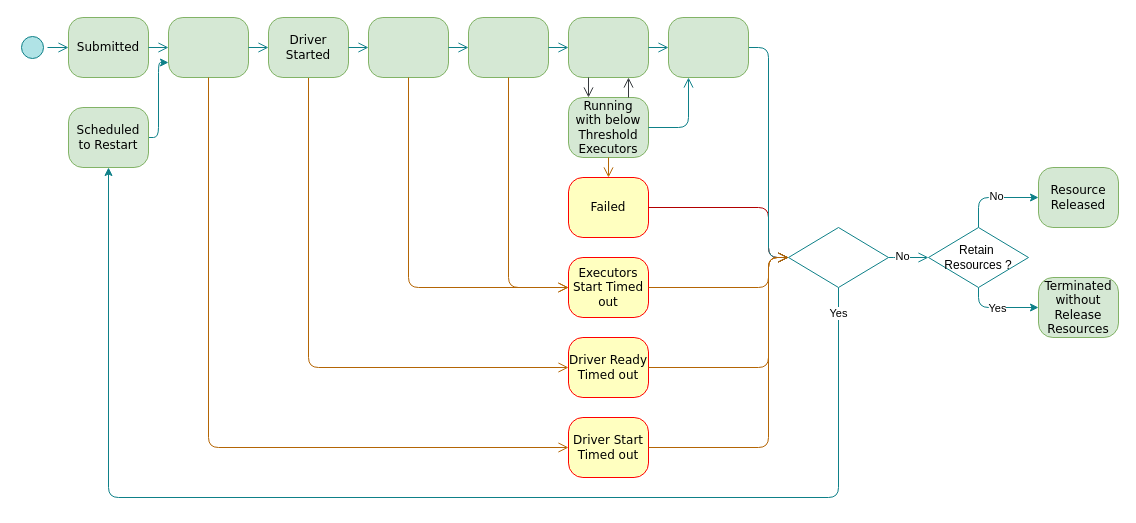
Some shapes in this 1136 by 523 pixel diagram are drawn without their labels. Here are the shapes that lost their labels. From the top down, the box of each, then its label:
(168, 16, 248, 78): Driver Requested
(368, 16, 448, 78): Driver Ready
(468, 16, 548, 78): Initialized with below Threshold Executors
(568, 16, 648, 78): Running Healthy
(668, 16, 748, 78): Succeeded
(788, 226, 888, 288): Restart ?
